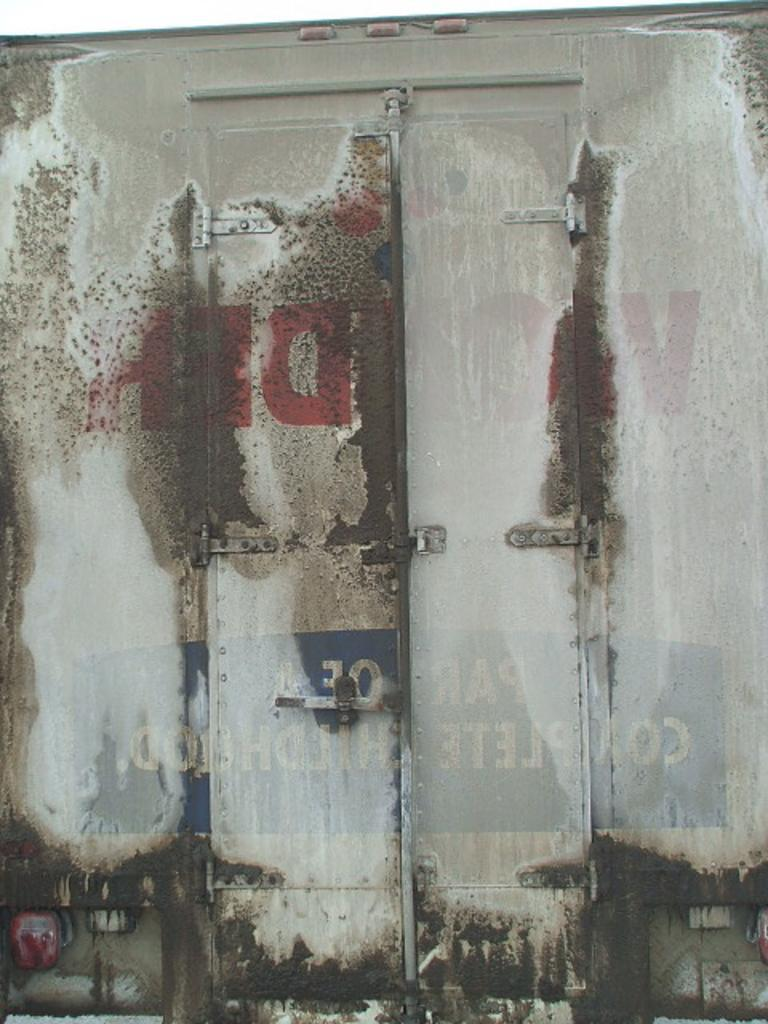door: (414, 120, 570, 966), (232, 141, 384, 983)
handle: (274, 678, 379, 730)
